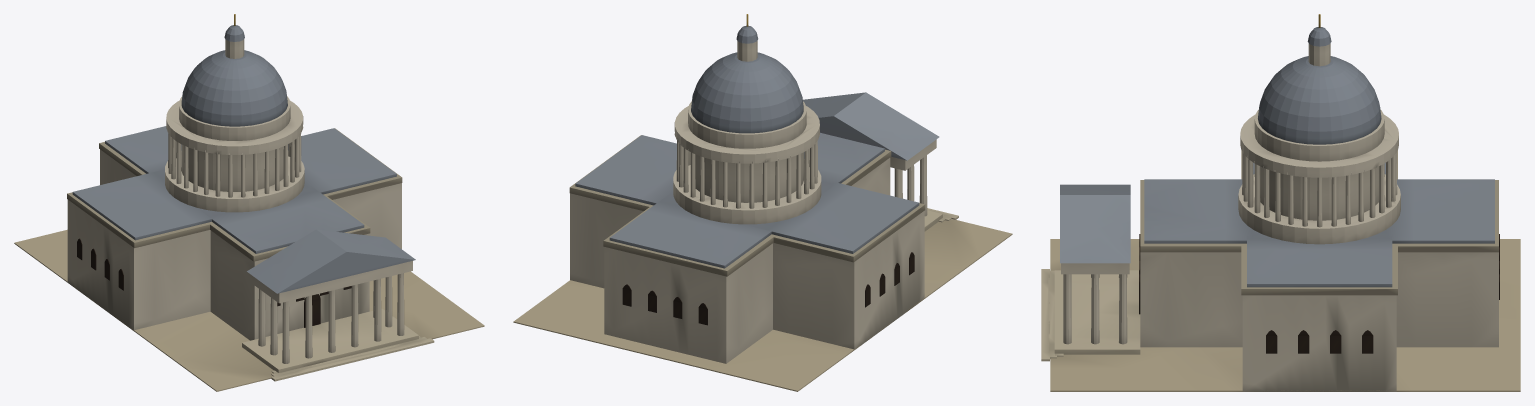
The model's file is pantheon.glb.
3 views of the same model, side by side, from view 1: azimuth 30°, elevation 25°; view 2: azimuth 150°, elevation 25°; view 3: azimuth 270°, elevation 25° (orthographic). The views are drawn at different scales.
Visible parts, largest first — view 1: p0_walls, p2_dome, p1_portico; view 2: p0_walls, p2_dome, p1_portico; view 3: p0_walls, p2_dome, p1_portico.
Boxes of the visible parts, box(x1,y1,x2,y2) form: p0_walls: box(14, 126, 484, 391); p2_dome: box(165, 14, 304, 212); p1_portico: box(242, 229, 434, 381); p0_walls: box(513, 132, 1012, 391); p2_dome: box(673, 14, 821, 224); p1_portico: box(803, 92, 958, 231); p0_walls: box(1050, 150, 1520, 391); p2_dome: box(1238, 14, 1400, 244); p1_portico: box(1041, 184, 1140, 361).
Size of the model in its own units: 84.35 by 77.9 by 112.
